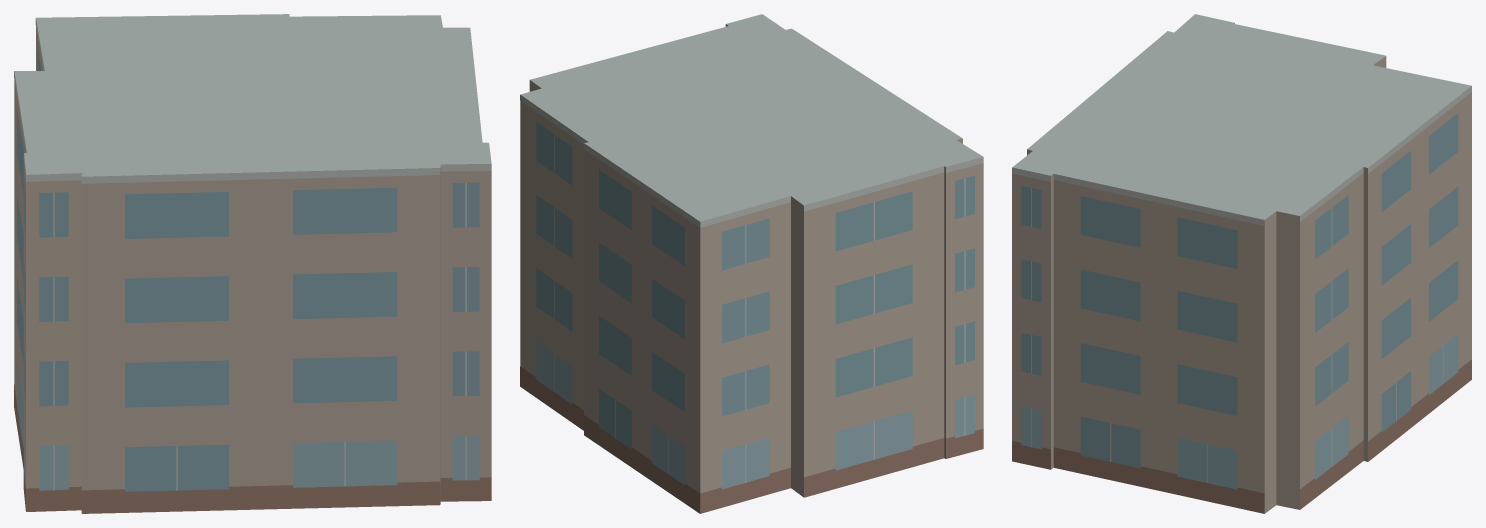
The model's file is survey-upis-32654506.glb.
3 views of the same model, side by side, from view 1: azimuth 30°, elevation 25°; view 2: azimuth 150°, elevation 25°; view 3: azimuth 270°, elevation 25° (orthographic). The views are drawn at different scales.
Visible parts, largest first — view 1: survey-upis-32654506.tmp; view 2: survey-upis-32654506.tmp; view 3: survey-upis-32654506.tmp.
Part boxes in pixels (x1=…): survey-upis-32654506.tmp: x1=14, y1=14, x2=491, y2=513; survey-upis-32654506.tmp: x1=520, y1=14, x2=983, y2=513; survey-upis-32654506.tmp: x1=1012, y1=14, x2=1471, y2=513.
Size of the model in its own units: 17.52 by 11.65 by 16.52.
